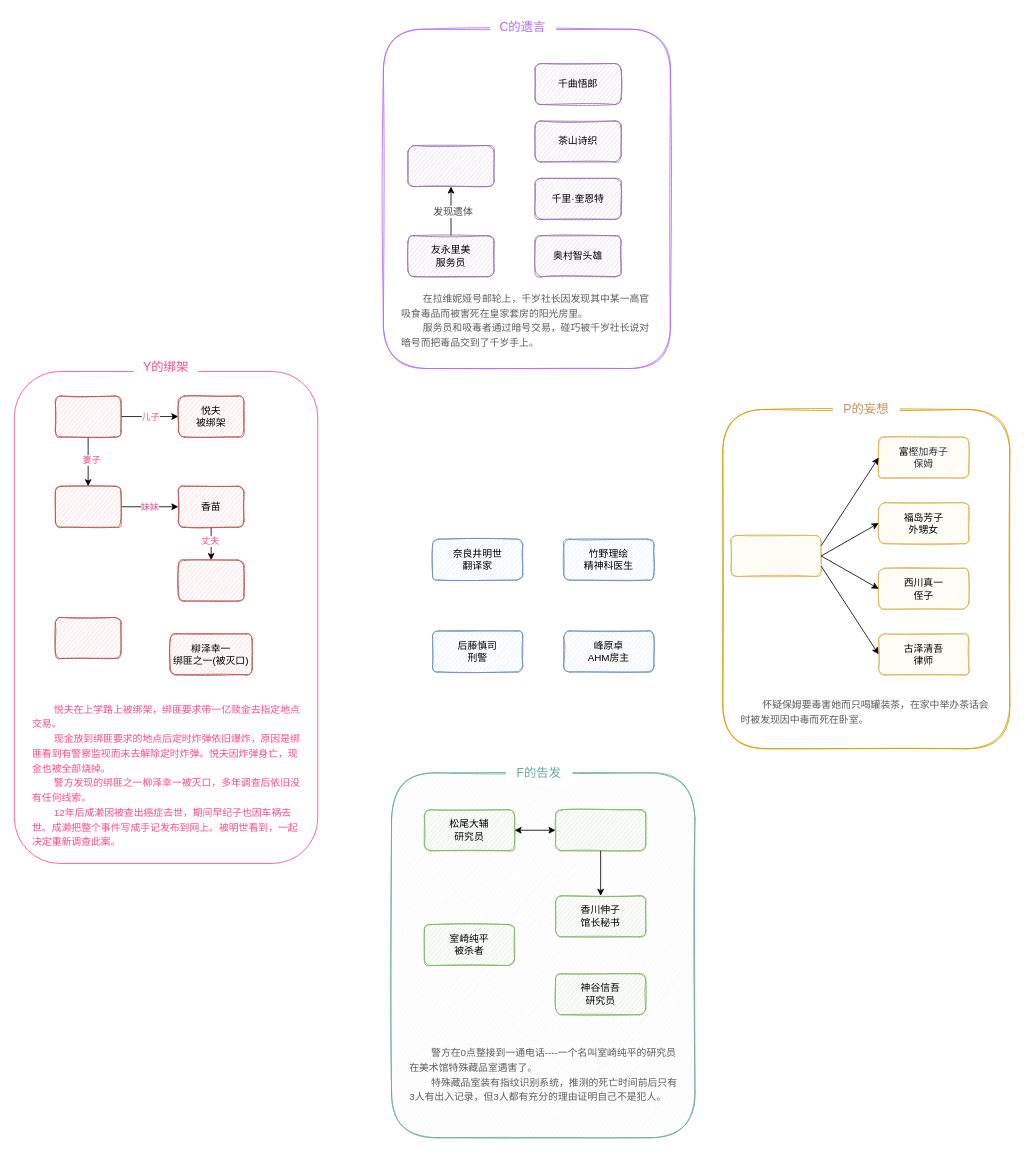
The diagram is 1024 pixels wide and 1152 high, and some of its shapes have lost their labels. Each missing label, with the box of its shape:
仲代哲志 美术馆馆长: (555, 809, 646, 851)
千岁百合子 千岁美妆社长: (407, 145, 494, 187)
岩崎 警官: (55, 617, 121, 658)
成濑正雄: (55, 395, 121, 437)
早纪子: (55, 485, 121, 527)
柏木武史: (178, 559, 244, 601)
西川珠美 被毒妄想症: (730, 535, 821, 576)
